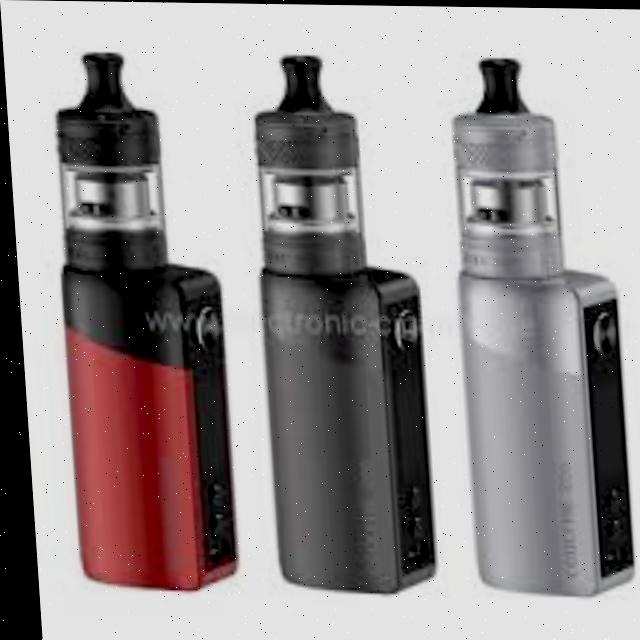vape: (242, 51, 433, 594), (441, 56, 630, 596), (46, 52, 234, 591)
